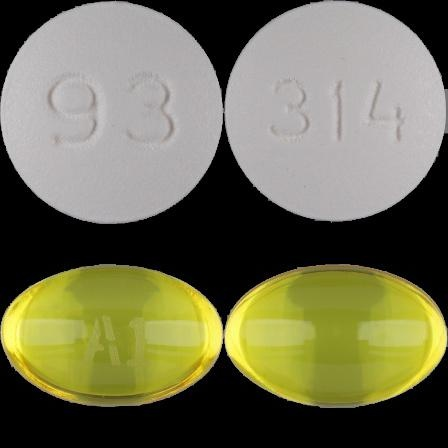12634-809: (0, 0, 224, 224)
